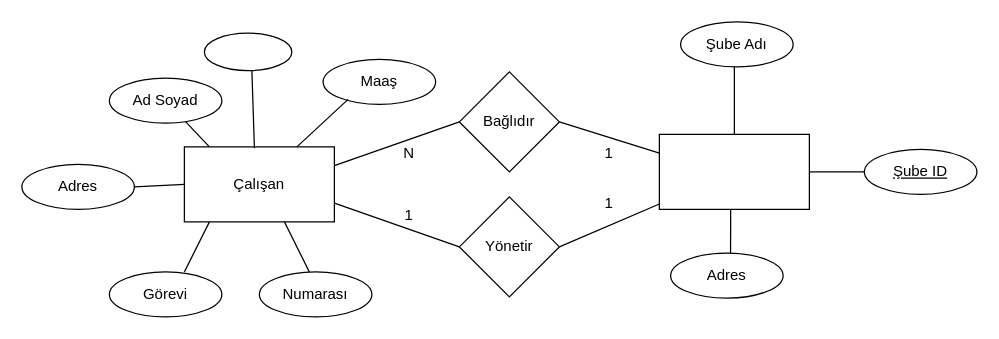
Some shapes in this 999 by 339 pixel diagram are drawn without their labels. The box of each missing label's shape, as (x1, y1, x2, y2) in pixels:
Calısan ID: (203, 32, 292, 71)
Şube: (658, 133, 809, 209)
